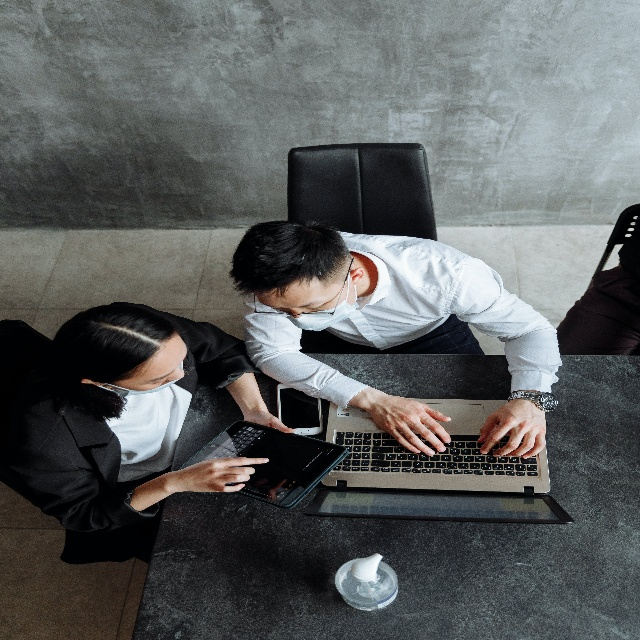Gafas: (251, 256, 358, 319)
Mascara: (275, 269, 361, 330), (95, 361, 189, 398)
Sin_guantes: (371, 387, 453, 460), (476, 400, 546, 462), (185, 455, 271, 494), (242, 408, 296, 435)
